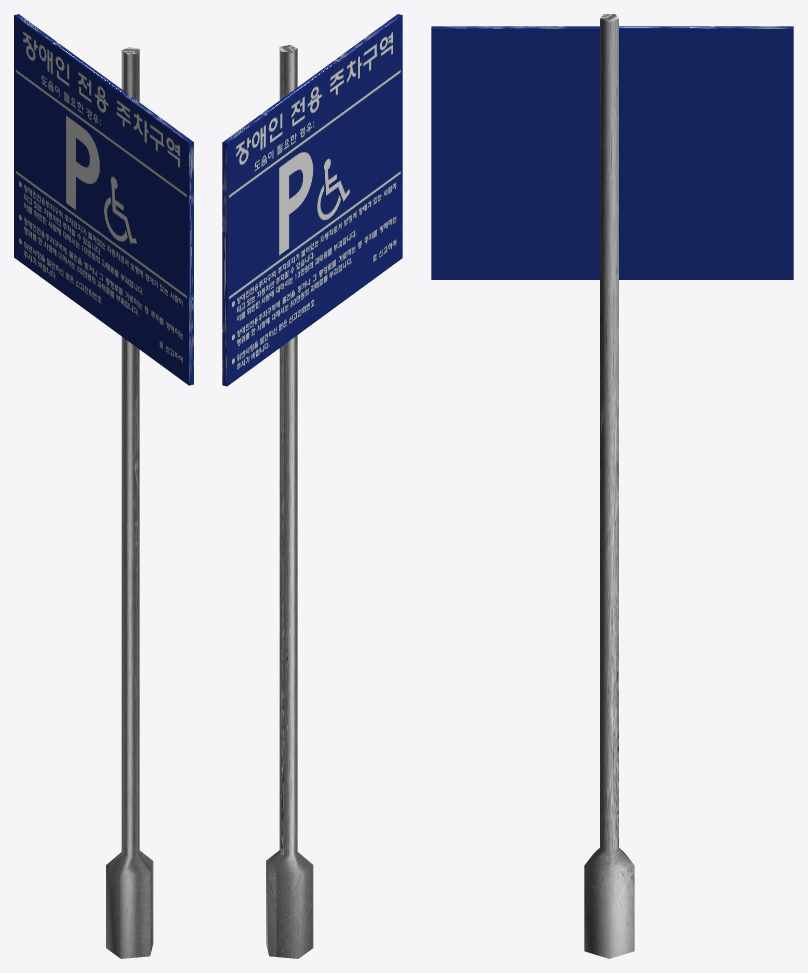
Rendered from parkingSign_forWeak.fbx.
The picture shows the model from 3 angles, left to right: view 1: azimuth 30°, elevation 25°; view 2: azimuth 150°, elevation 25°; view 3: azimuth 270°, elevation 25°; orthographic projection. The views are drawn at different scales.
Visible parts, largest first — view 1: Cylinder050; view 2: Cylinder050; view 3: Cylinder050.
Part boxes in pixels (bbox=[...]): Cylinder050: bbox=[14, 14, 193, 958]; Cylinder050: bbox=[222, 14, 402, 958]; Cylinder050: bbox=[431, 14, 793, 958].
Size of the model in its own units: 4.95 by 84.57 by 29.86.
2 materials, 2 textured.
